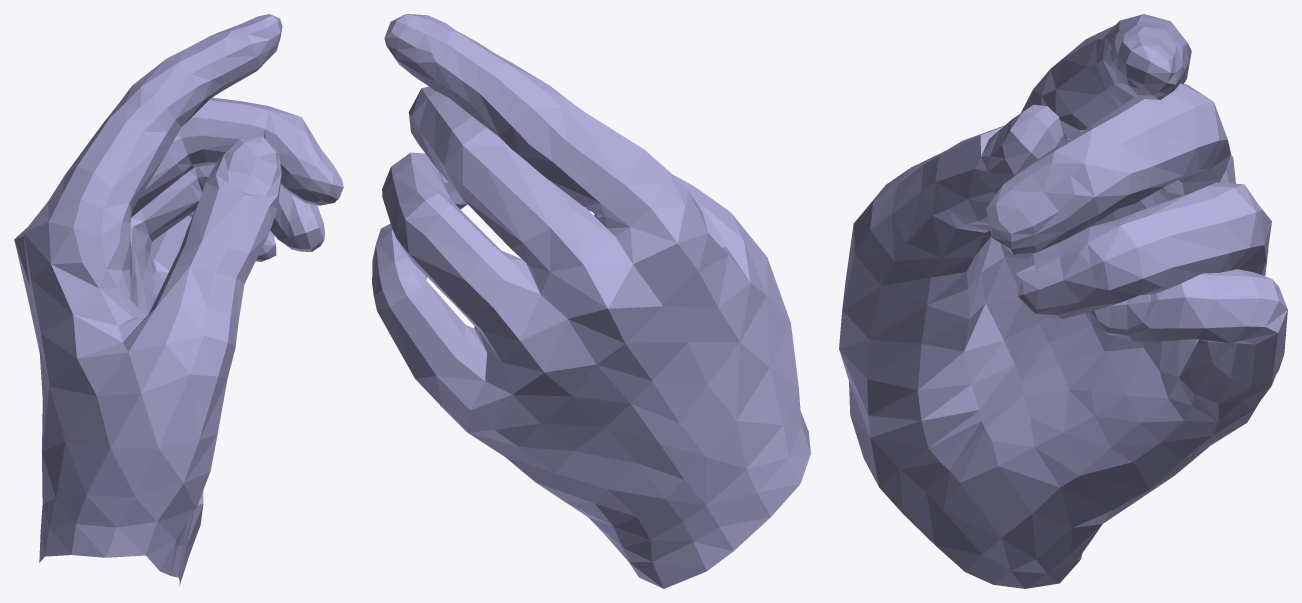
Rendered from hand_0047.glb.
3 renders of one model, left to right at view 1: azimuth 30°, elevation 25°; view 2: azimuth 150°, elevation 25°; view 3: azimuth 270°, elevation 25°, orthographic. The views are drawn at different scales.
Parts seen in each view (by area): view 1: world; view 2: world; view 3: world.
Boxes of the visible parts, x1=… form: world: x1=14, y1=14, x2=343, y2=585; world: x1=372, y1=14, x2=810, y2=588; world: x1=839, y1=14, x2=1287, y2=588.
Bounding box in the file's own units: 0.0996 × 0.1491 × 0.0924.
